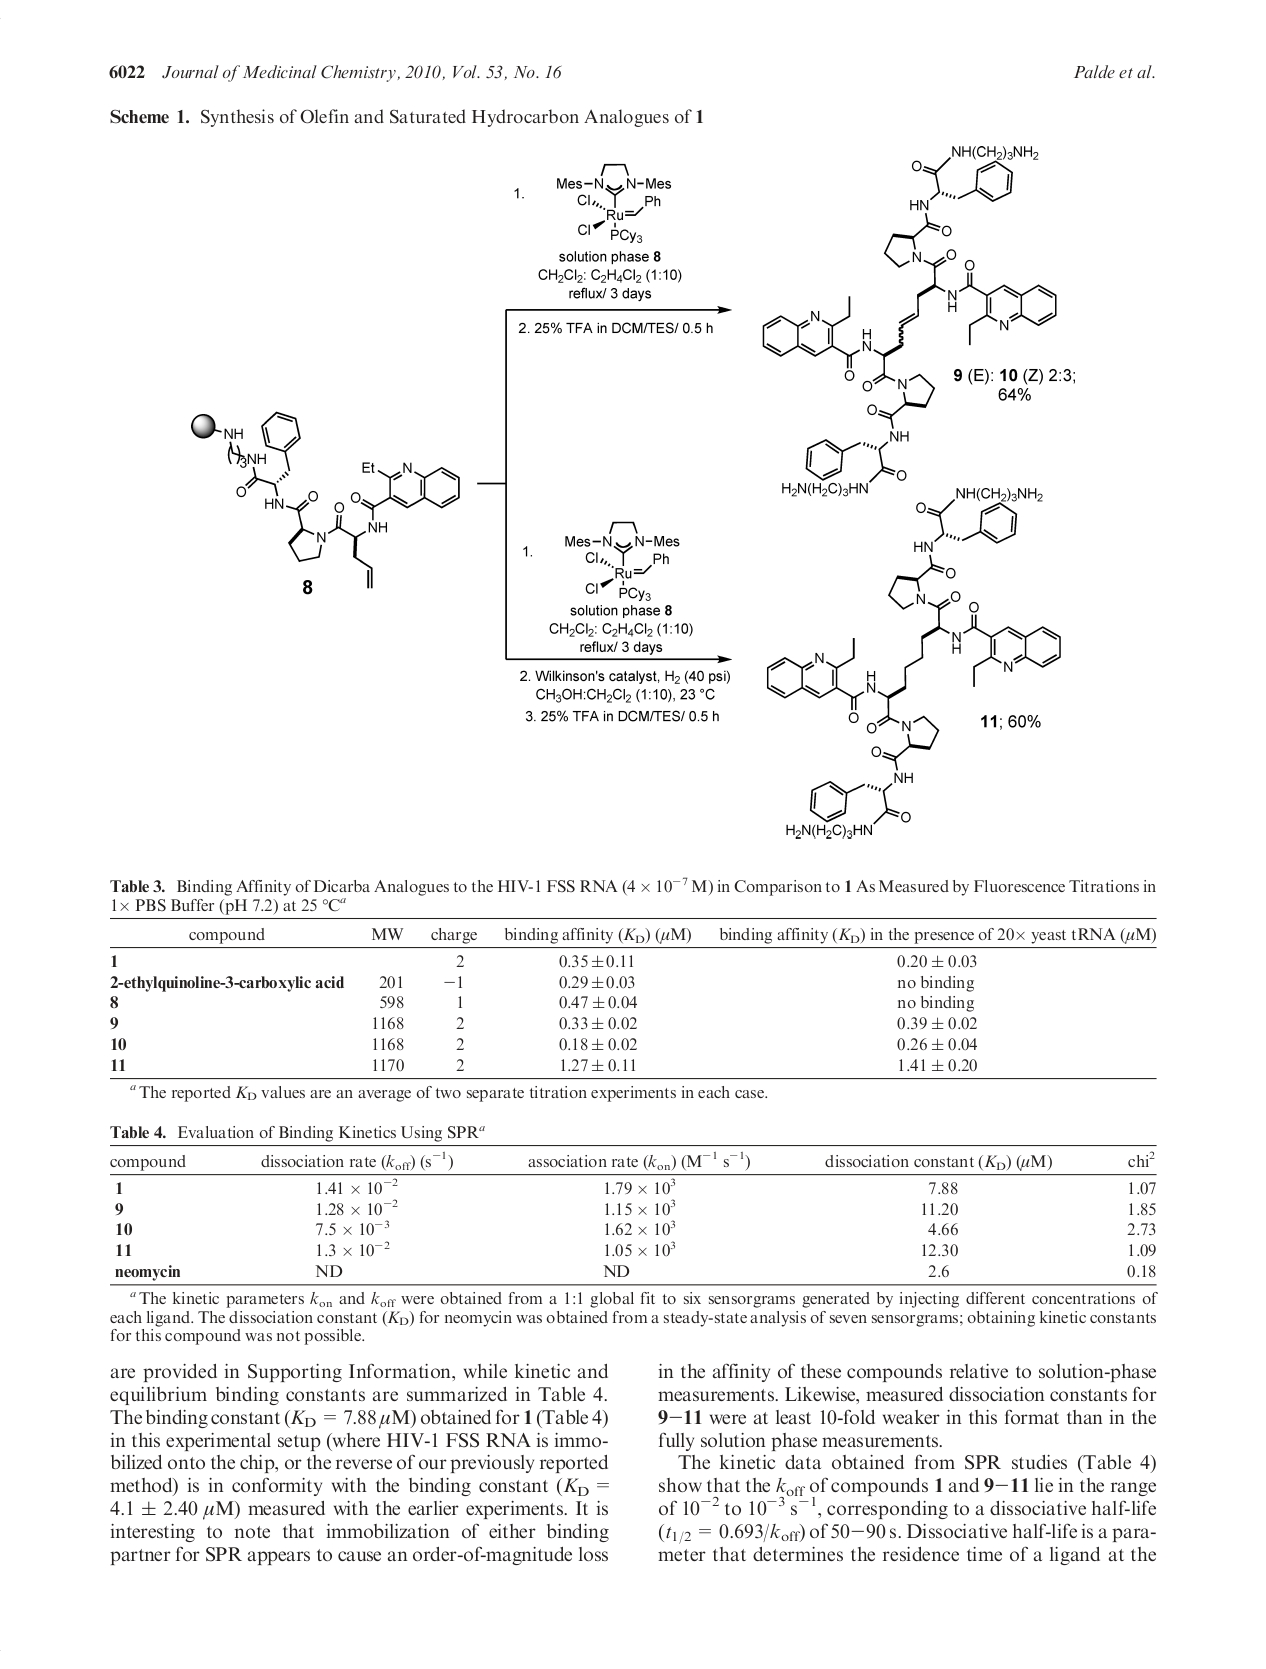exist_molecular: (765, 484, 1069, 840), (762, 140, 1063, 497), (190, 411, 465, 590), (553, 158, 674, 247), (565, 519, 686, 604)
